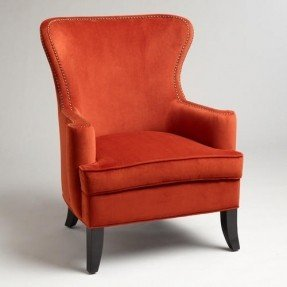chairs: (38, 14, 245, 278)
